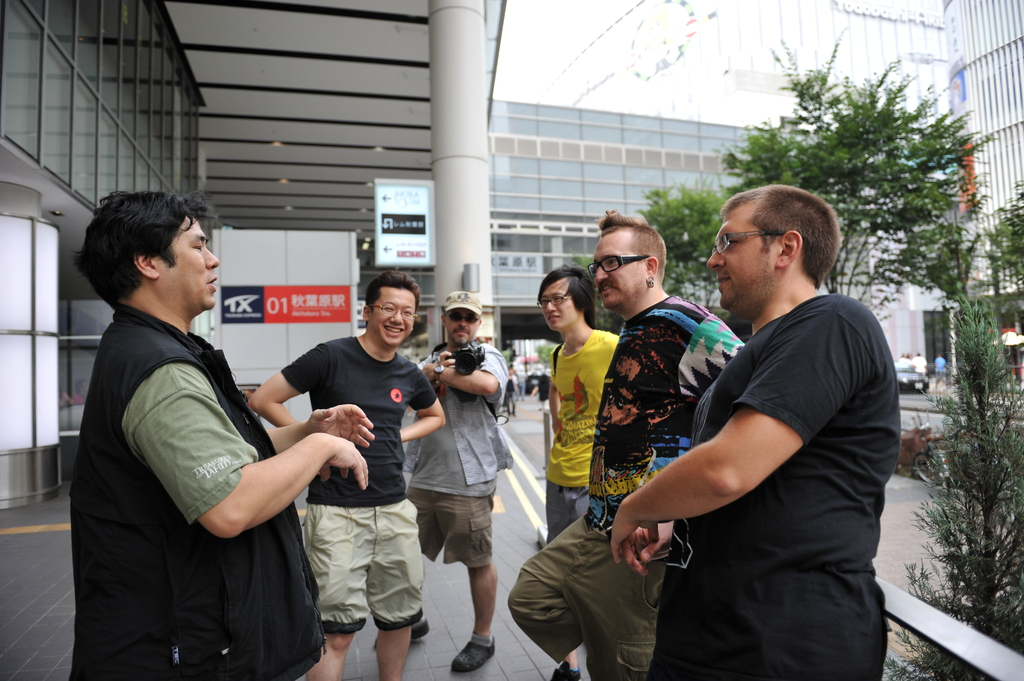Footwear: (373, 614, 429, 645), (445, 627, 476, 678), (550, 662, 583, 680)
